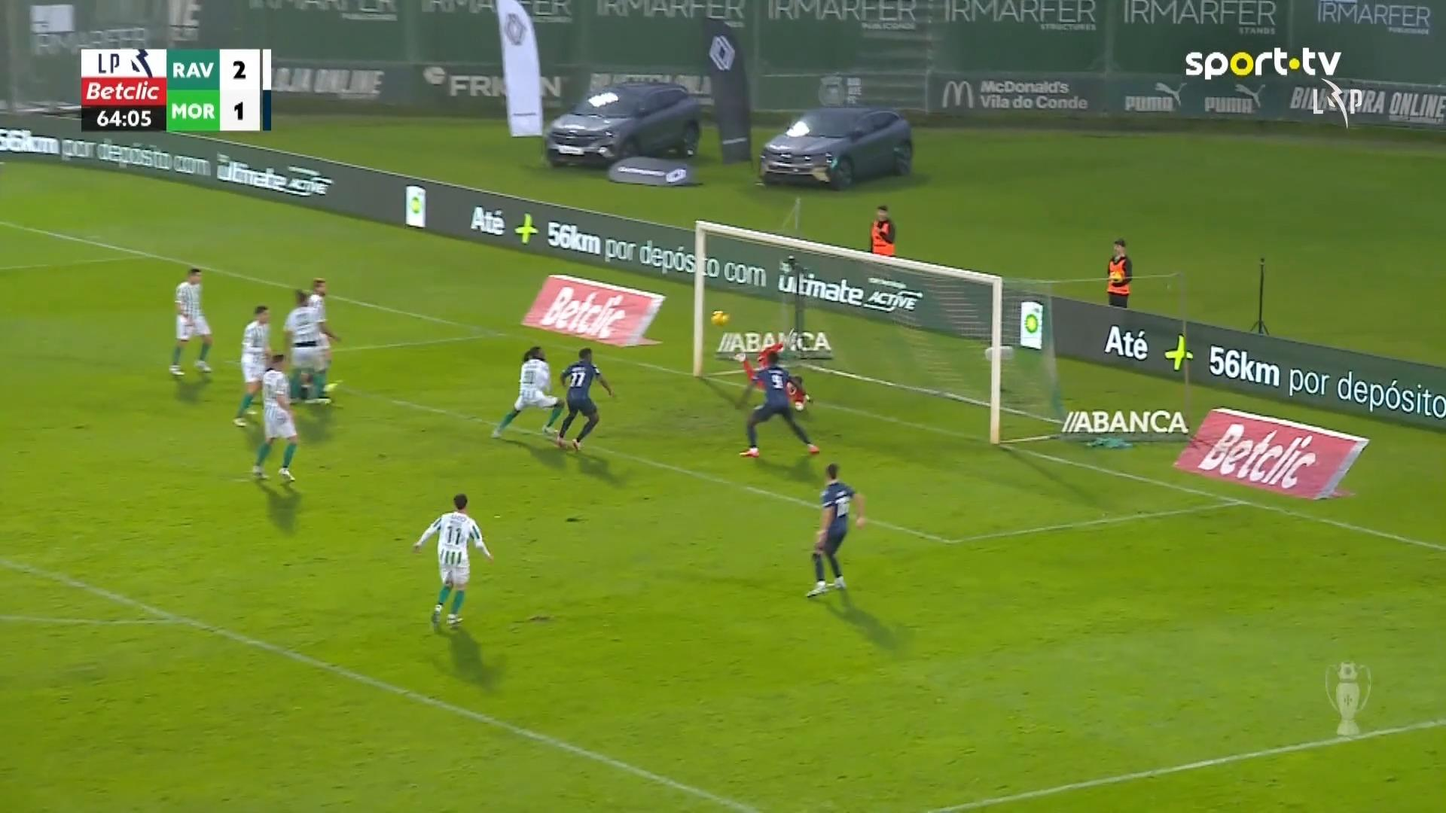ball: (710, 310, 728, 325)
goalkeeper: (727, 341, 810, 403)
player: (411, 492, 493, 629), (739, 353, 820, 458), (804, 461, 866, 598), (490, 345, 563, 438), (554, 346, 614, 452), (250, 352, 298, 482), (282, 288, 335, 404), (233, 304, 273, 427), (169, 266, 213, 376), (304, 278, 340, 397)
